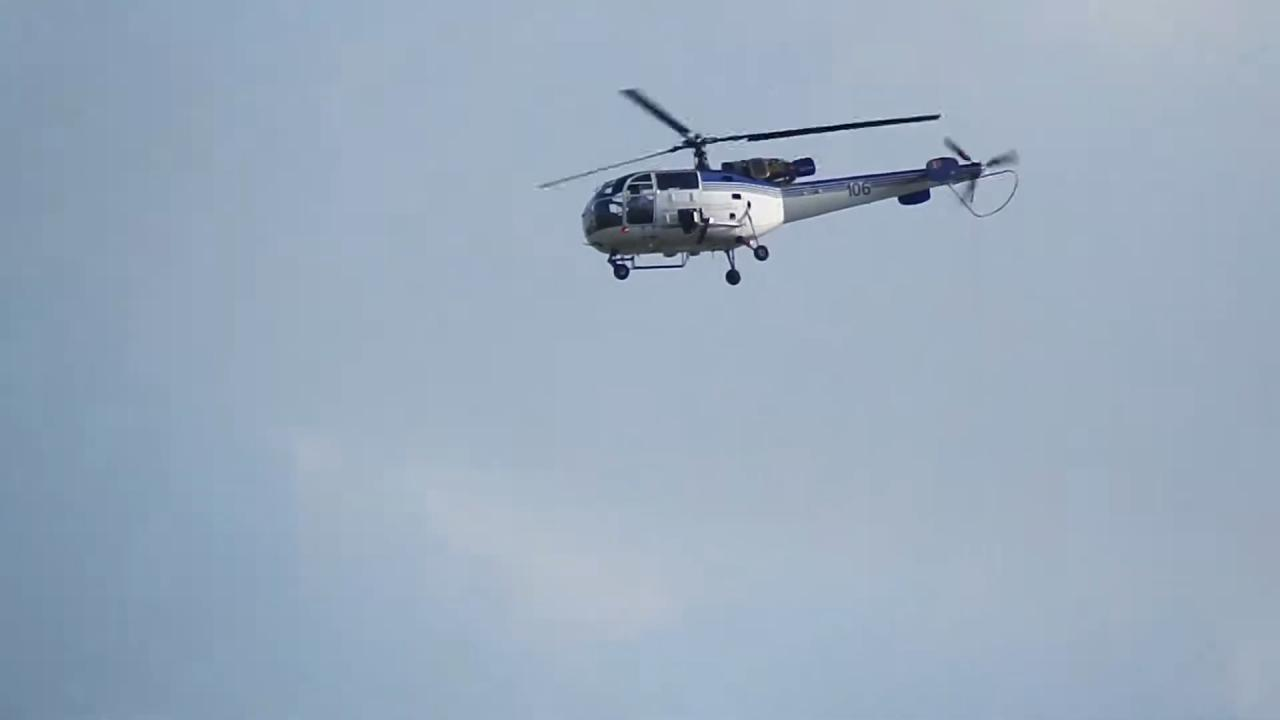Helicopter: (528, 68, 1040, 298)
